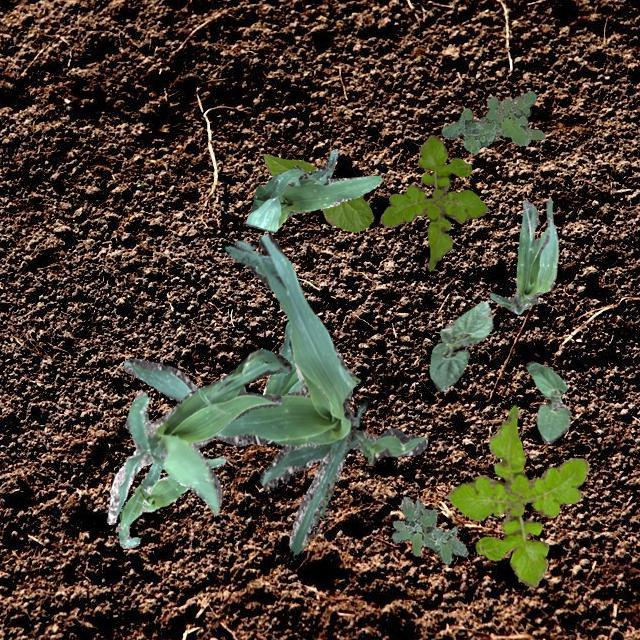crop: (121, 234, 426, 554), (106, 348, 290, 524), (245, 148, 382, 232), (116, 456, 225, 548), (262, 152, 372, 230), (488, 198, 558, 314), (240, 302, 304, 394), (428, 300, 492, 390), (526, 360, 570, 442)
weed: (446, 404, 588, 586), (380, 134, 488, 270), (441, 90, 544, 152), (392, 496, 466, 564)
